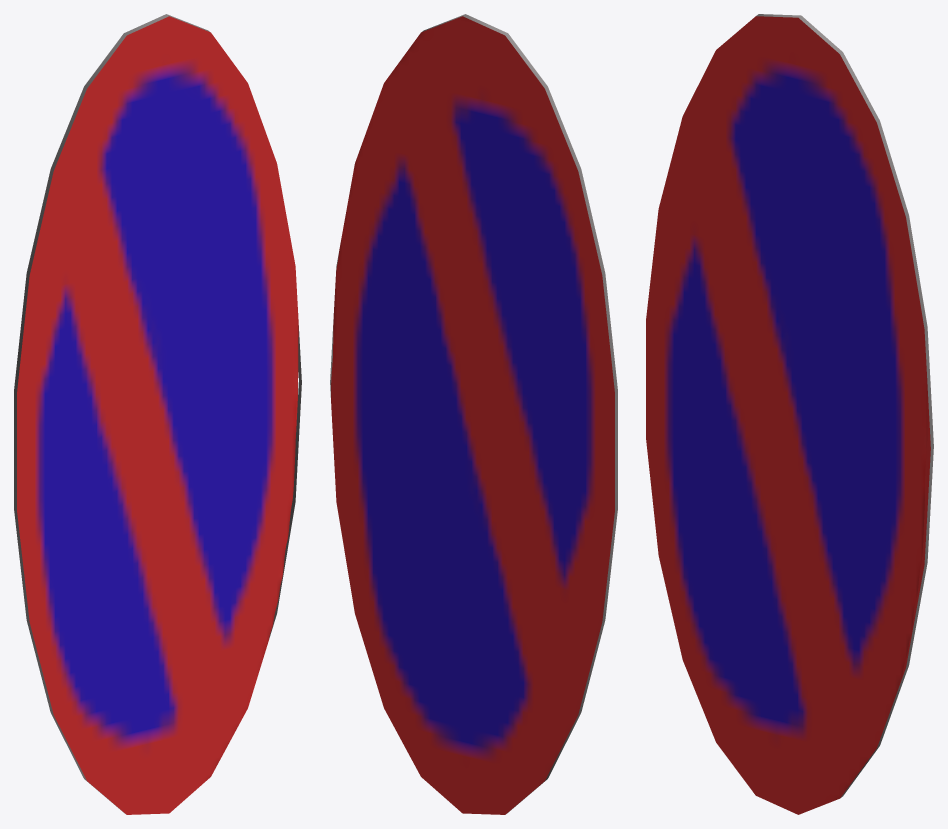
File: TelephoneSign.fbx
The picture shows the model from 3 angles, left to right: view 1: azimuth 30°, elevation 25°; view 2: azimuth 150°, elevation 25°; view 3: azimuth 330°, elevation 25°; orthographic projection.
Parts seen in each view (by area): view 1: TelephonePoleSIgn; view 2: TelephonePoleSIgn; view 3: TelephonePoleSIgn.
Part boxes in pixels (x1,y1,x2,y2): TelephonePoleSIgn: (14, 14, 301, 814); TelephonePoleSIgn: (330, 14, 617, 814); TelephonePoleSIgn: (646, 14, 933, 814).
Bounding box in the file's own units: 101 × 271 × 1.87.
Materials: 1 (1 with a texture image).
